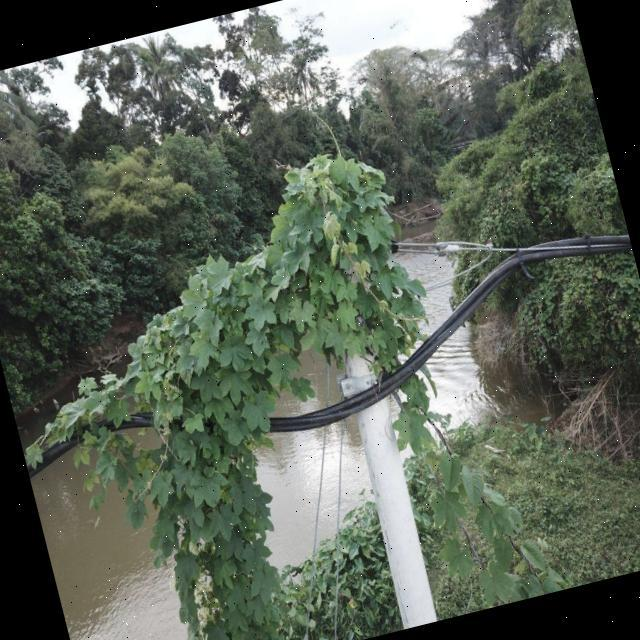critical vegetation: (0, 114, 561, 640)
